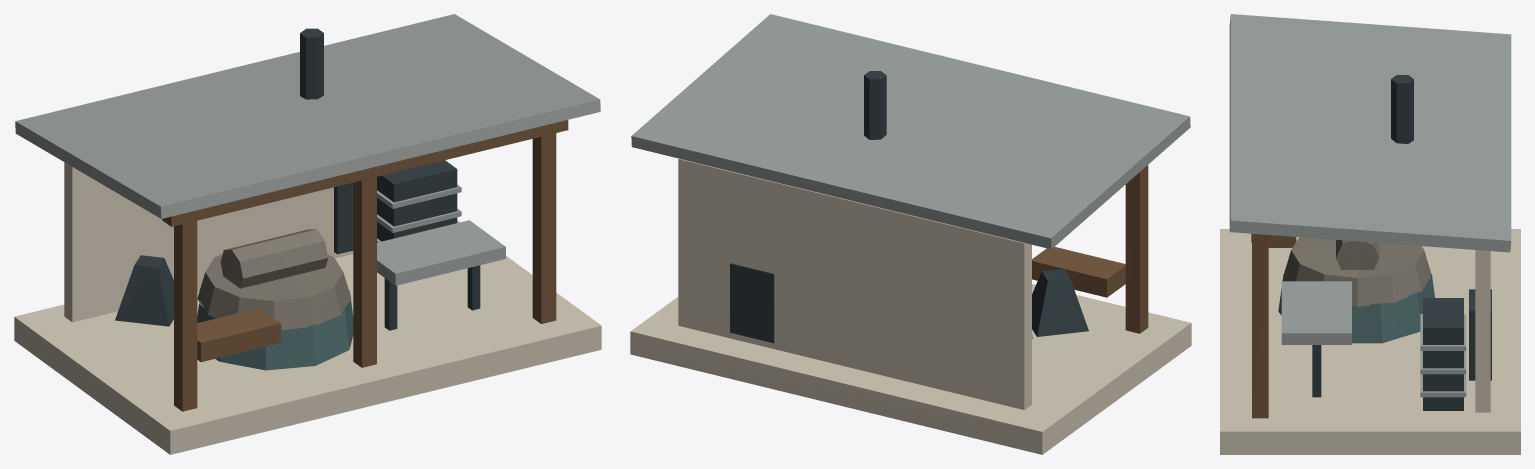
Rendered from Chocolate-Workshop.glb.
3 renders of one model, left to right at view 1: azimuth 30°, elevation 25°; view 2: azimuth 150°, elevation 25°; view 3: azimuth 270°, elevation 25°, orthographic. The views are drawn at different scales.
Parts seen in each view (by area): view 1: wind-pump-static-chocolate-workshop-galvanized-work-surfaces, wind-pump-static-chocolate-workshop-cream-plaster, wind-pump-static-chocolate-workshop-warm-timber, wind-pump-static-chocolate-workshop-dark-iron, wind-pump-static-chocolate-workshop-melanger-stone, wind-pump-static-chocolate-workshop-muted-teal-base; view 2: wind-pump-static-chocolate-workshop-cream-plaster, wind-pump-static-chocolate-workshop-galvanized-work-surfaces, wind-pump-static-chocolate-workshop-dark-iron, wind-pump-static-chocolate-workshop-warm-timber; view 3: wind-pump-static-chocolate-workshop-galvanized-work-surfaces, wind-pump-static-chocolate-workshop-cream-plaster, wind-pump-static-chocolate-workshop-melanger-stone, wind-pump-static-chocolate-workshop-dark-iron, wind-pump-static-chocolate-workshop-warm-timber, wind-pump-static-chocolate-workshop-muted-teal-base.
Boxes of the visible parts, x1,y1,x2,y2 form: wind-pump-static-chocolate-workshop-galvanized-work-surfaces: (15, 14, 600, 285); wind-pump-static-chocolate-workshop-cream-plaster: (14, 162, 601, 454); wind-pump-static-chocolate-workshop-warm-timber: (162, 120, 568, 411); wind-pump-static-chocolate-workshop-dark-iron: (115, 28, 480, 330); wind-pump-static-chocolate-workshop-melanger-stone: (197, 229, 351, 330); wind-pump-static-chocolate-workshop-muted-teal-base: (197, 290, 353, 370); wind-pump-static-chocolate-workshop-cream-plaster: (630, 158, 1191, 454); wind-pump-static-chocolate-workshop-galvanized-work-surfaces: (631, 14, 1190, 249); wind-pump-static-chocolate-workshop-dark-iron: (730, 71, 1088, 343); wind-pump-static-chocolate-workshop-warm-timber: (1032, 165, 1148, 333); wind-pump-static-chocolate-workshop-galvanized-work-surfaces: (1229, 14, 1511, 397); wind-pump-static-chocolate-workshop-cream-plaster: (1220, 229, 1520, 454); wind-pump-static-chocolate-workshop-melanger-stone: (1284, 237, 1431, 306); wind-pump-static-chocolate-workshop-dark-iron: (1312, 75, 1491, 410); wind-pump-static-chocolate-workshop-warm-timber: (1251, 233, 1296, 418); wind-pump-static-chocolate-workshop-muted-teal-base: (1278, 274, 1434, 343).
Size of the model in its own units: 3.82 by 2.45 by 2.35.
